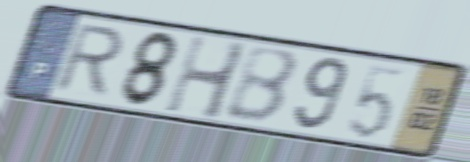5: (345, 61, 408, 141)
8: (117, 29, 180, 110)
9: (291, 55, 350, 132)
B: (221, 45, 301, 127)
H: (160, 30, 252, 124)
R: (49, 22, 130, 100)
